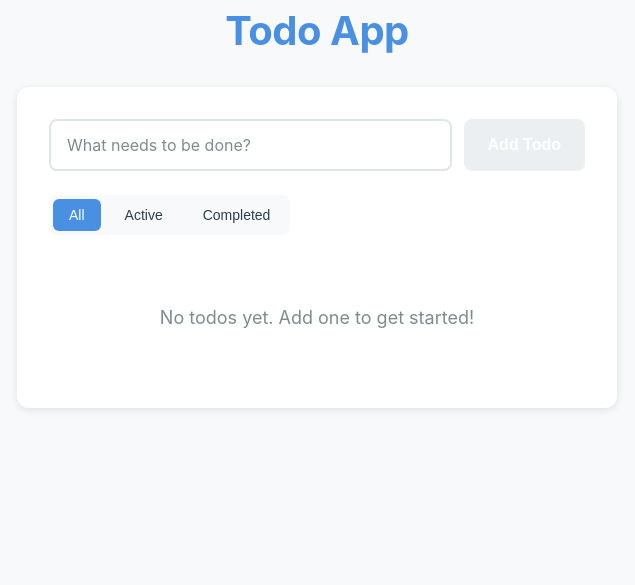
Test: App › should display stats correctly
The image size is (635, 585).
Type "First todo" into the field with placeholder "What needs to be done?".
click(250, 145); type("First todo")  # box [49,119,452,171]
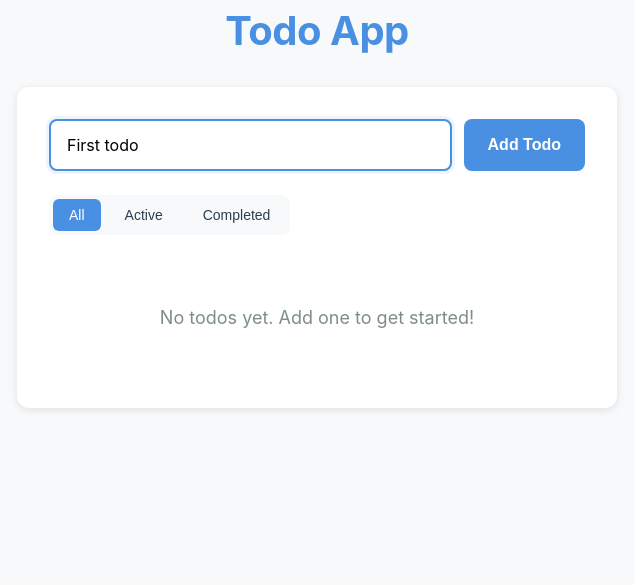
Click the button "Add Todo".
click(524, 145)  # box [464,119,585,171]
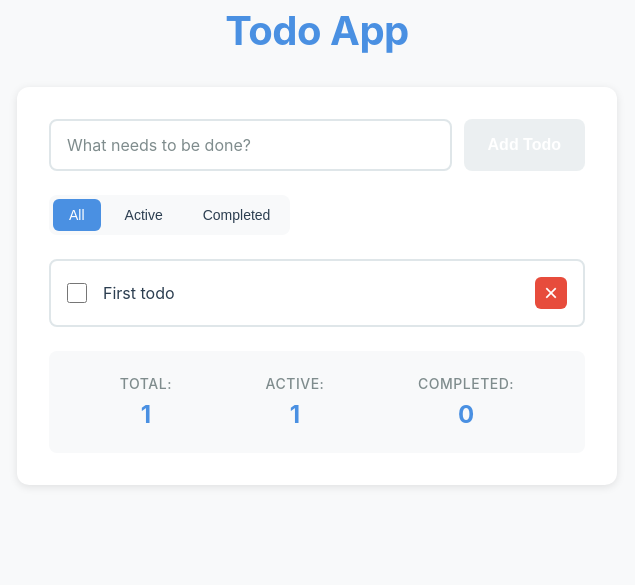
Type "Second todo" into the field with placeholder "What needs to be done?".
click(250, 145); type("Second todo")  # box [49,119,452,171]
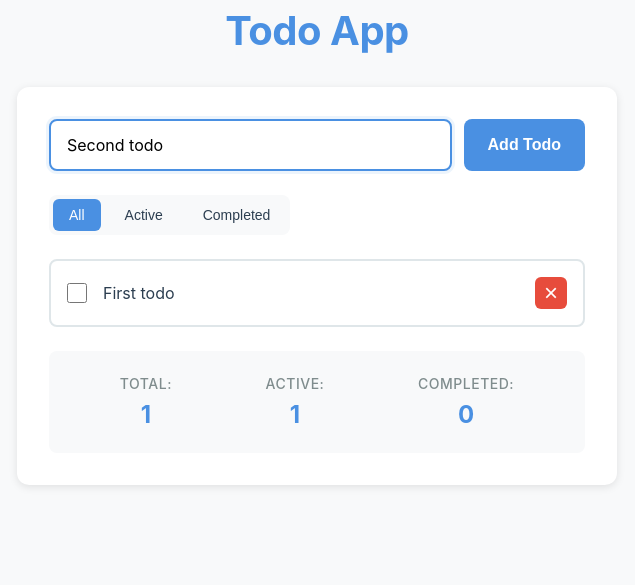
Click the button "Add Todo".
click(524, 145)  # box [464,119,585,171]
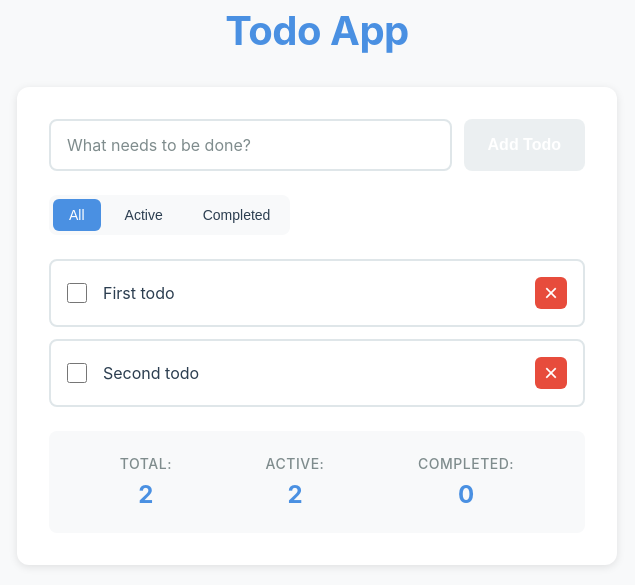
Expected: the text "Total:" is shown, [120,455,172,472]
Expected: the text "2" below "Total:" is shown, [138,480,153,509]
